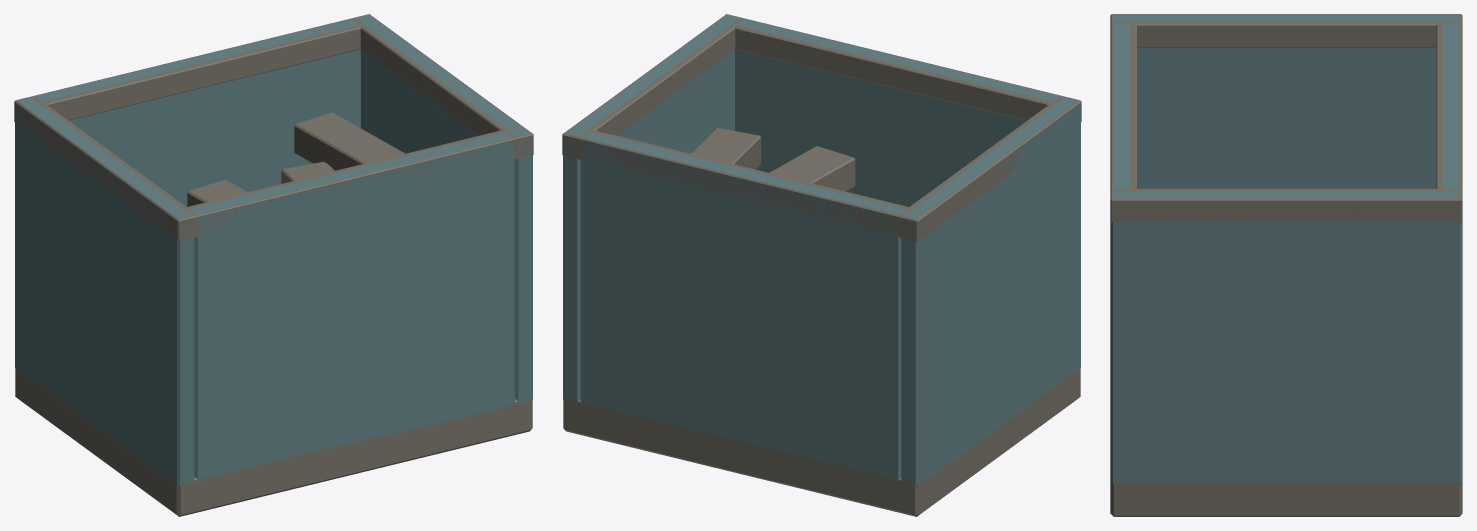
Rendered from scrap_bin.glb.
3 views of the same model, side by side, from view 1: azimuth 30°, elevation 25°; view 2: azimuth 150°, elevation 25°; view 3: azimuth 270°, elevation 25° (orthographic). The views are drawn at different scales.
Visible parts, largest first — view 1: scrap_bin; view 2: scrap_bin; view 3: scrap_bin.
Part boxes in pixels (x1=…): scrap_bin: x1=14, y1=14, x2=533, y2=516; scrap_bin: x1=562, y1=14, x2=1081, y2=516; scrap_bin: x1=1110, y1=14, x2=1462, y2=516.
Bounding box in the file's own units: 1 × 0.8 × 0.8.
